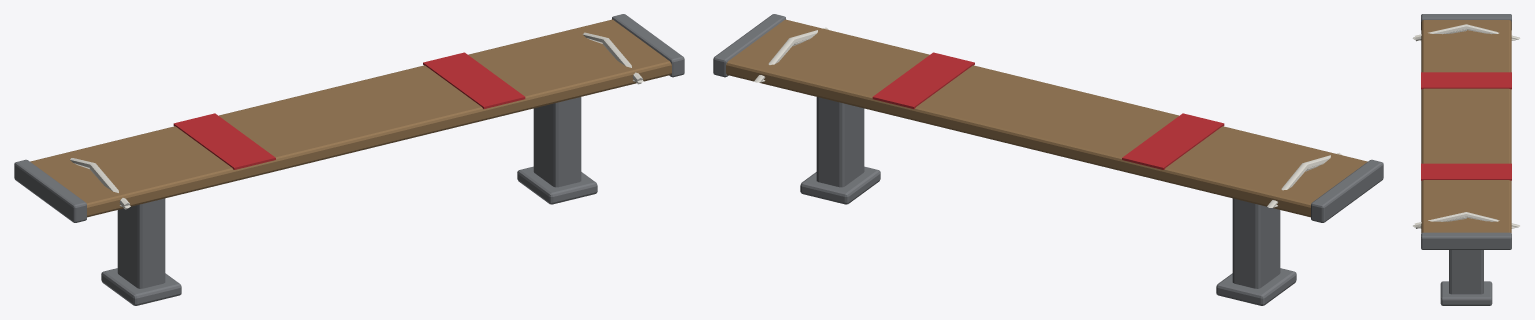
Rendered from wing_plank.fbx.
3 views of the same model, side by side, from view 1: azimuth 30°, elevation 25°; view 2: azimuth 150°, elevation 25°; view 3: azimuth 270°, elevation 25° (orthographic). The views are drawn at different scales.
Parts seen in each view (by area): view 1: wood_1, gun_1, red_1, paper_1; view 2: wood_1, gun_1, red_1, paper_1; view 3: wood_1, gun_1, red_1, paper_1.
Part boxes in pixels (x1,y1,x2,y2): wood_1: [30, 19, 671, 217]; gun_1: [14, 14, 684, 305]; red_1: [173, 52, 525, 169]; paper_1: [70, 32, 643, 209]; wood_1: [726, 19, 1367, 217]; gun_1: [713, 14, 1383, 305]; red_1: [872, 52, 1224, 169]; paper_1: [754, 27, 1341, 207]; wood_1: [1421, 20, 1511, 232]; gun_1: [1421, 14, 1511, 305]; red_1: [1421, 72, 1511, 180]; paper_1: [1412, 24, 1520, 228].
Size of the model in its own units: 0.1628 by 0.0353 by 0.0332.
